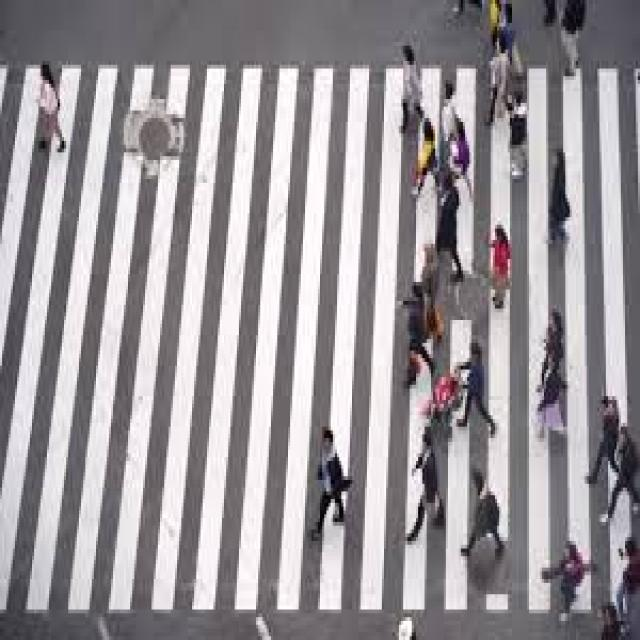Pedestrians: (299, 427, 358, 541), (429, 164, 471, 297), (405, 426, 448, 548), (21, 61, 75, 156), (461, 465, 508, 571), (535, 312, 572, 446), (597, 423, 638, 529), (457, 339, 499, 442), (542, 541, 589, 625), (584, 392, 623, 488), (548, 137, 574, 255), (396, 34, 426, 126), (487, 218, 514, 312), (412, 118, 446, 191)
